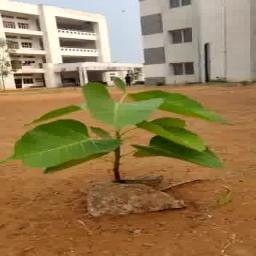LEAVS: (22, 63, 247, 180)
